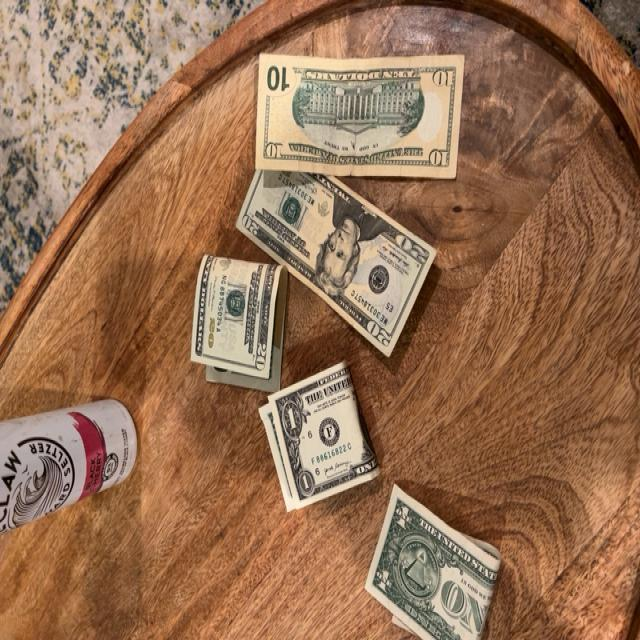one: (363, 483, 501, 640), (258, 362, 380, 514)
ten: (255, 52, 466, 180)
twenty: (236, 168, 437, 358), (192, 254, 288, 393)
